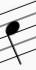note: (3, 8, 27, 67)
